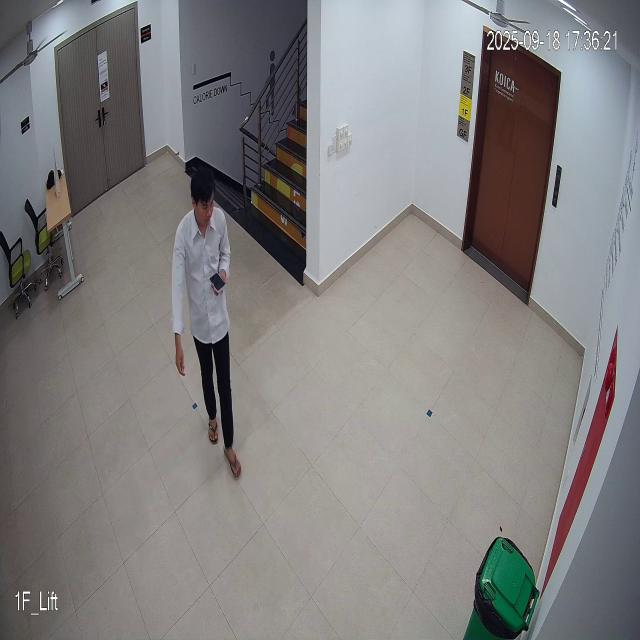face: (189, 161, 216, 229)
